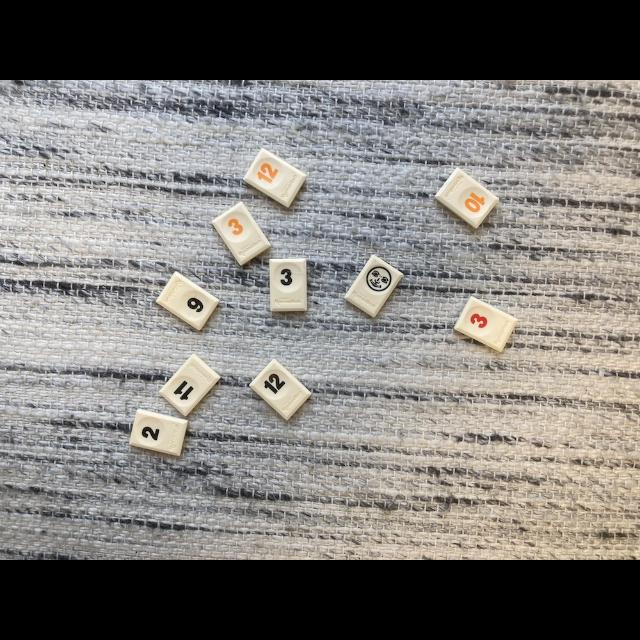black_11: (160, 354, 220, 416)
black_12: (250, 359, 311, 420)
black_2: (128, 409, 188, 456)
black_3: (270, 259, 306, 311)
black_6: (156, 271, 219, 330)
joker: (346, 255, 402, 318)
orange_10: (435, 169, 499, 228)
orange_12: (244, 149, 306, 208)
orange_3: (212, 202, 270, 265)
red_3: (454, 296, 518, 351)
